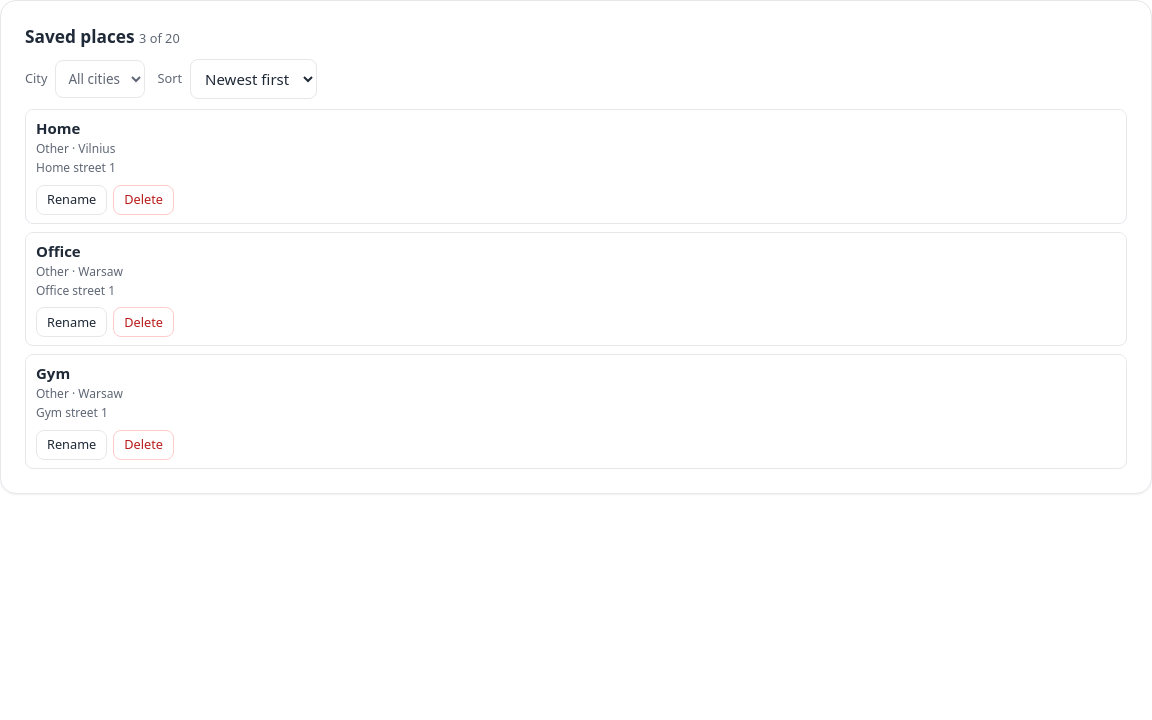
Test case: saved places list › shows a rename conflict at the name field
The image size is (1152, 720).
Click the 3rd button "Rename" at (72, 445), box [36, 430, 107, 460]
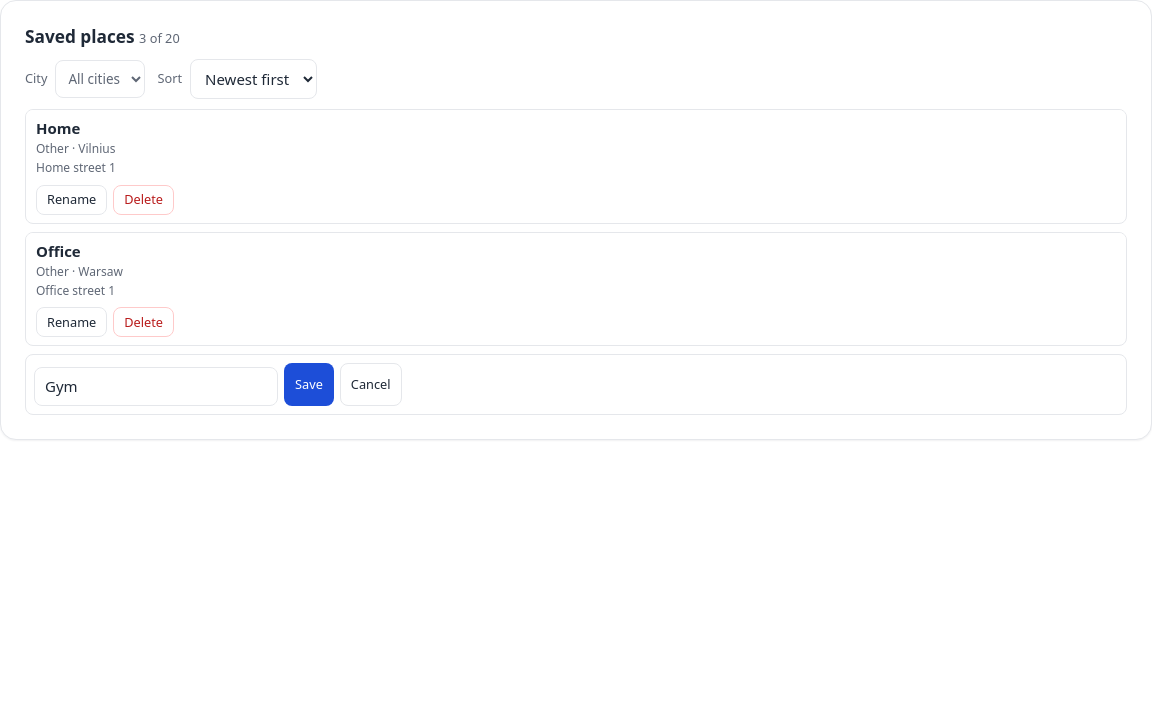
Clear the field named "New name" at (156, 387), box [34, 367, 278, 406]
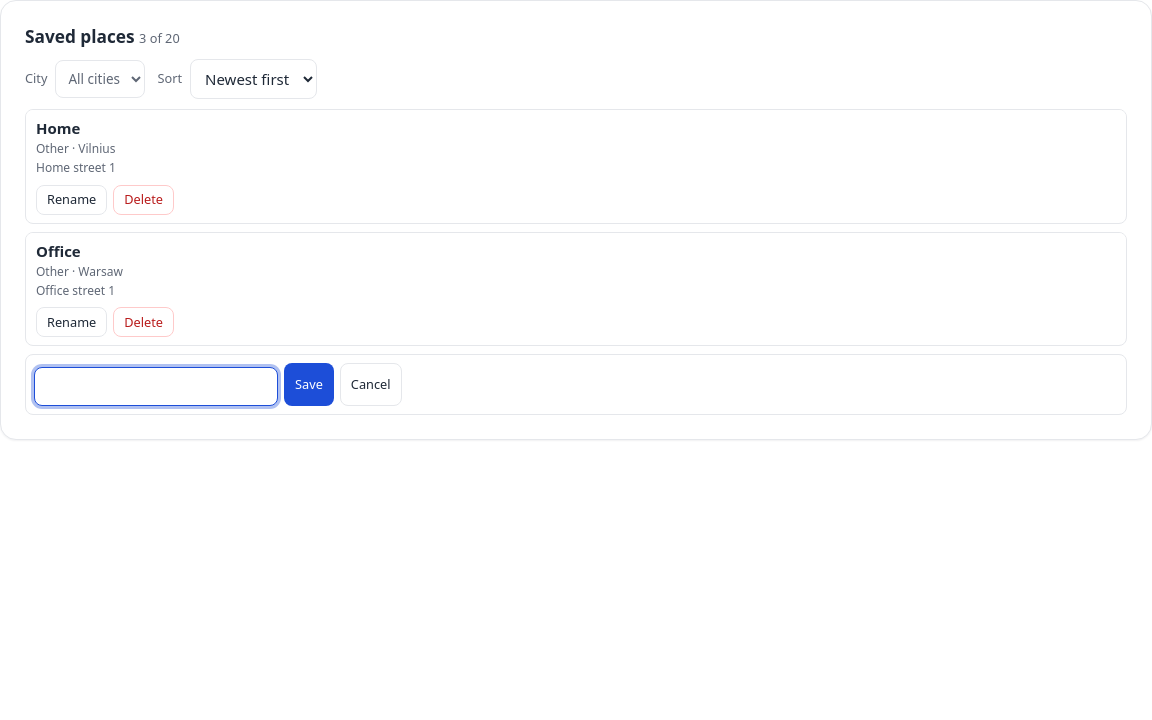
Click the button "Save" at (309, 385), box [284, 363, 334, 406]
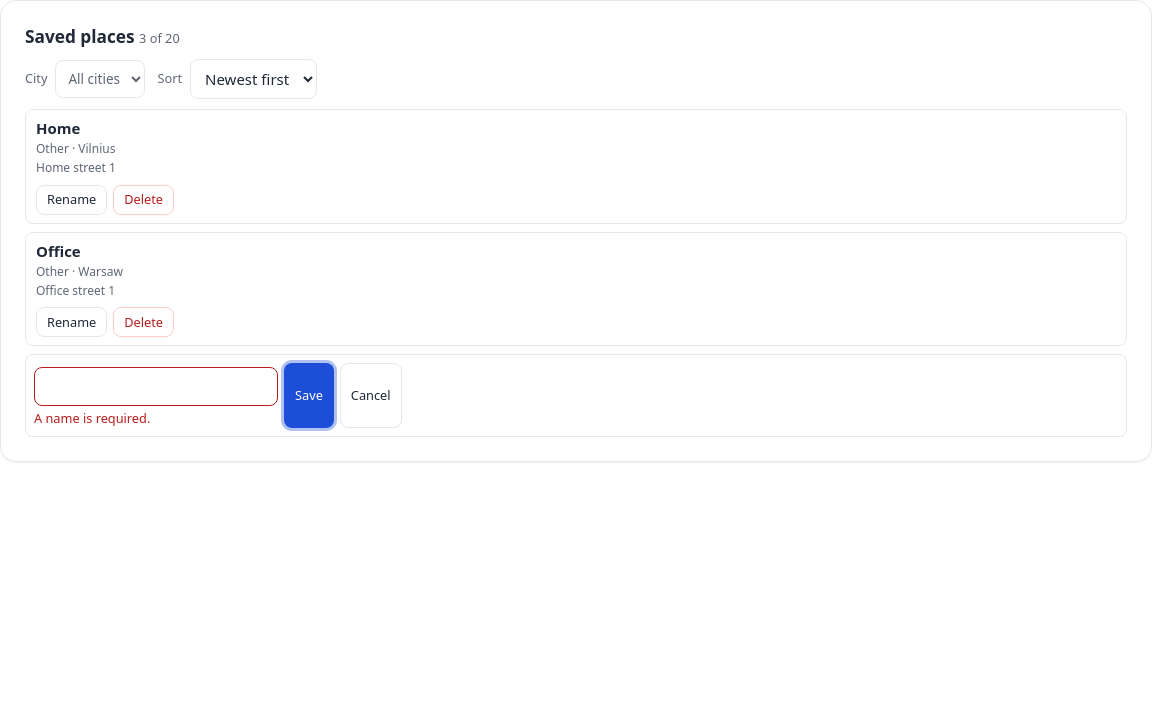
expect the text "A name is required." is shown: met, box [34, 409, 150, 427]
Type "Home" into the field at (156, 387), box [34, 367, 278, 406]
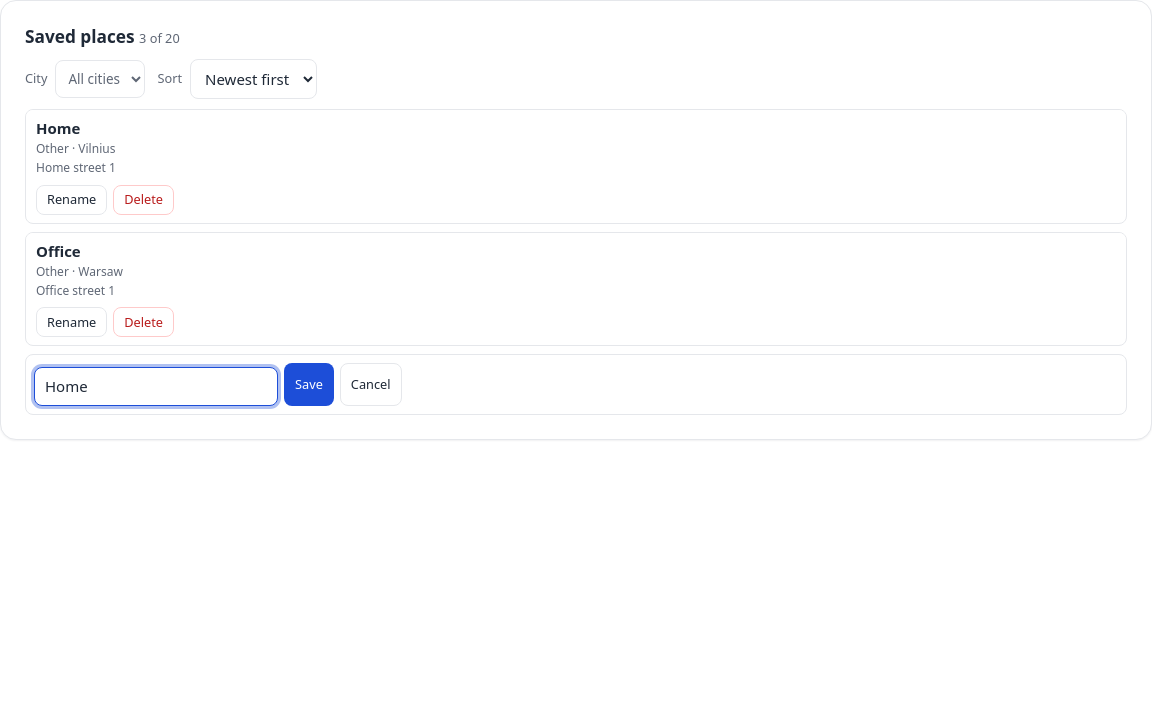
Click the button "Save" at (309, 385), box [284, 363, 334, 406]
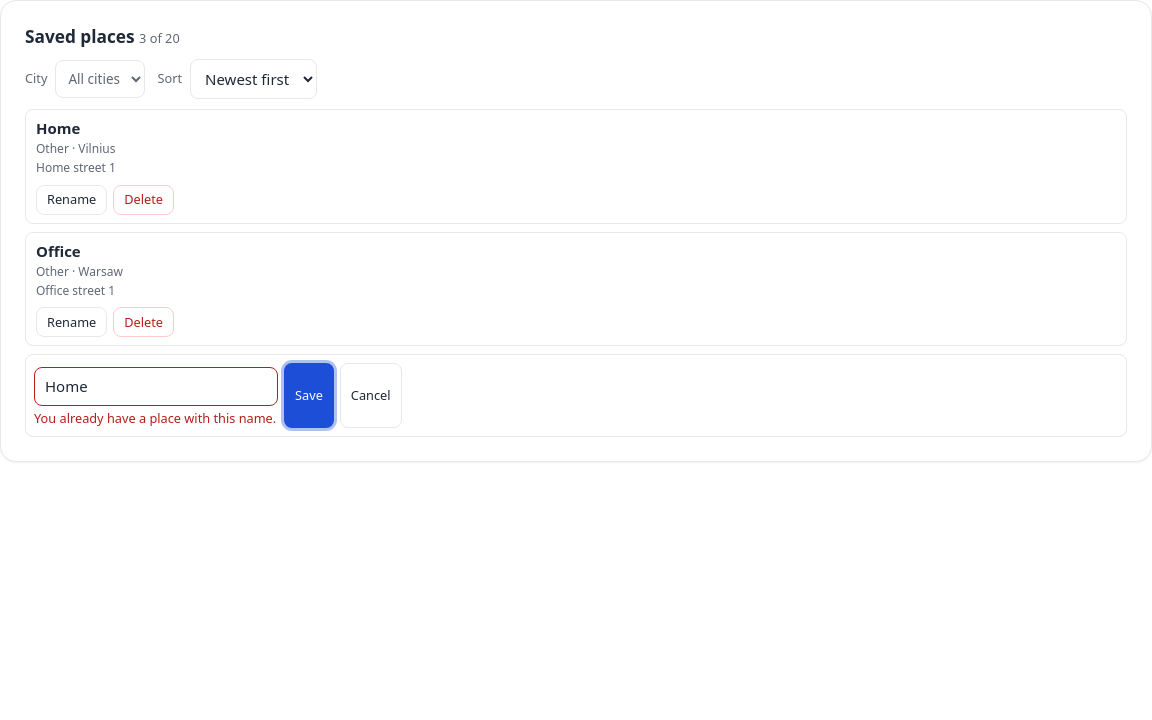
expect the text "You already have a place with this name." is shown: met, box [34, 410, 278, 428]
